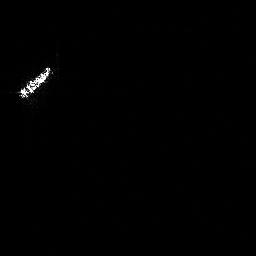ship: (15, 65, 53, 108)
